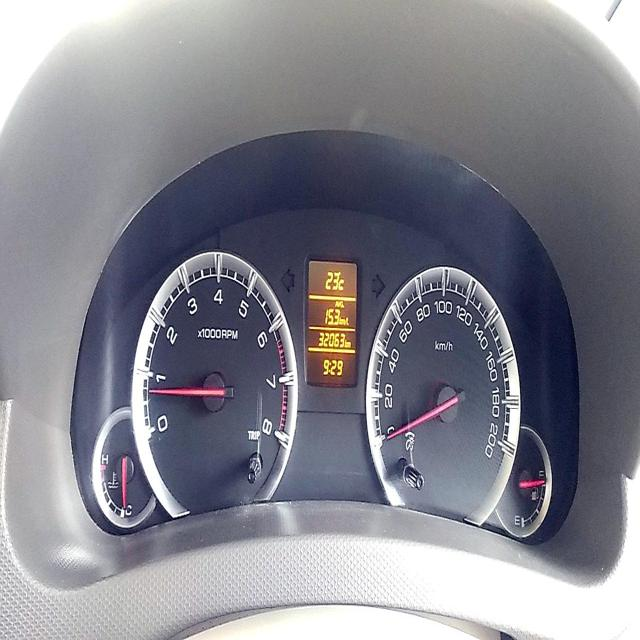odometer: (317, 328, 345, 350)
